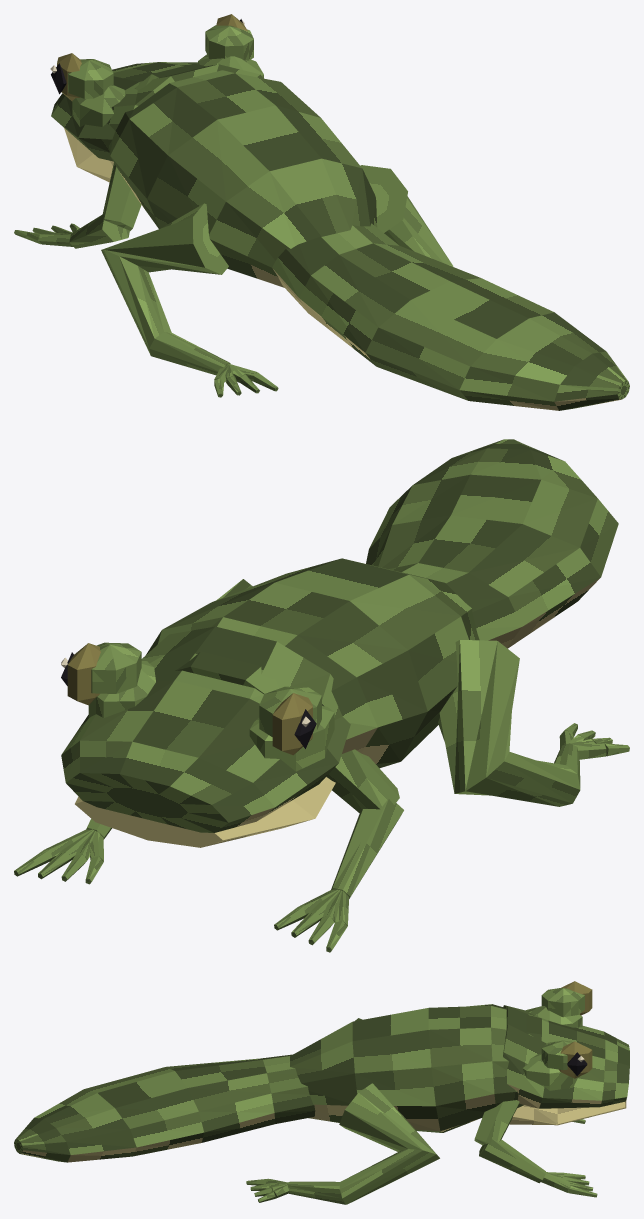
Rendered from mon_tail_frog.glb.
The picture shows the model from 3 angles, top to bottom: view 1: azimuth 30°, elevation 25°; view 2: azimuth 150°, elevation 25°; view 3: azimuth 270°, elevation 25°; orthographic projection. The views are drawn at different scales.
Parts seen in each view (by area): view 1: closed_body; view 2: closed_body; view 3: closed_body.
Part boxes in pixels (left/top/right/bottom): closed_body: left=14, top=14, right=629, bottom=410; closed_body: left=14, top=439, right=629, bottom=952; closed_body: left=14, top=981, right=629, bottom=1204.
Size of the model in its own units: 0.1099 by 0.0625 by 0.2479.
Materials: 1 (1 with a texture image).
